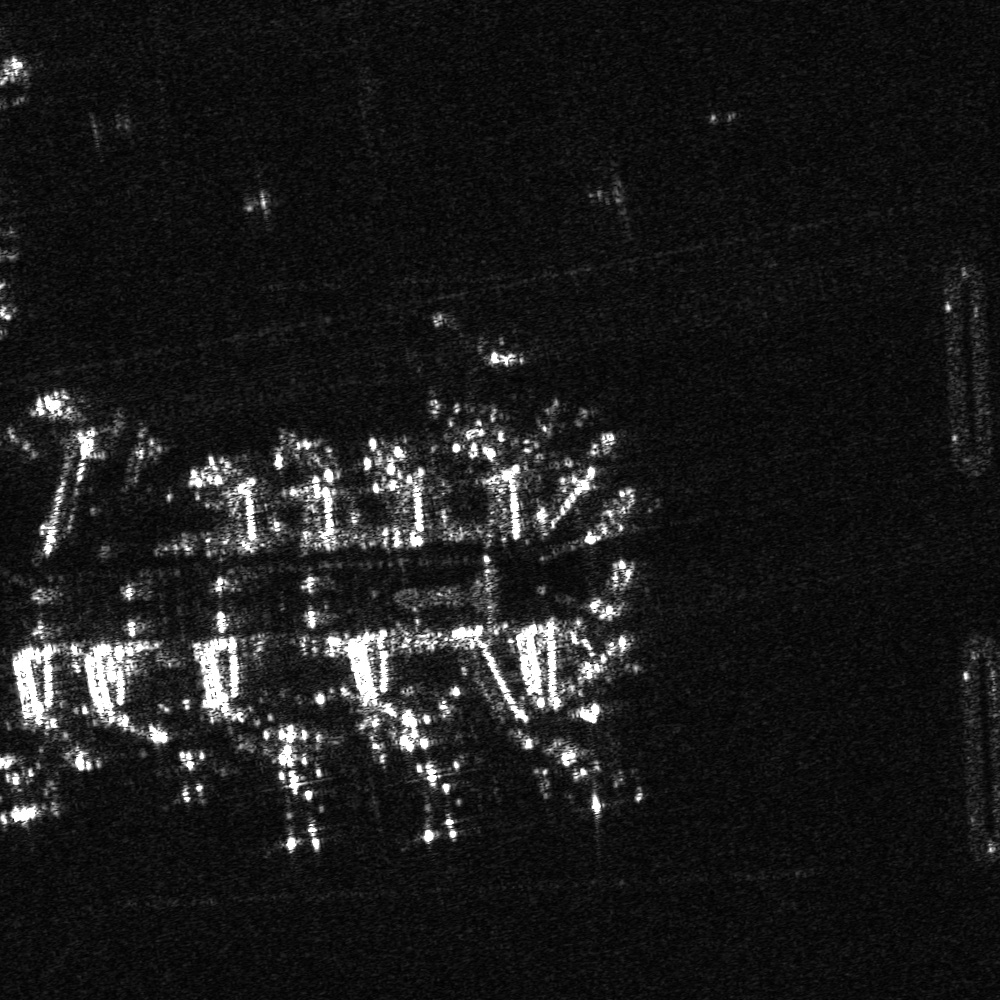A220: (425, 336, 527, 445), (150, 741, 231, 810)
Boeing737: (523, 729, 637, 829)
Boeing787: (238, 737, 348, 860)
other: (389, 726, 489, 845)
